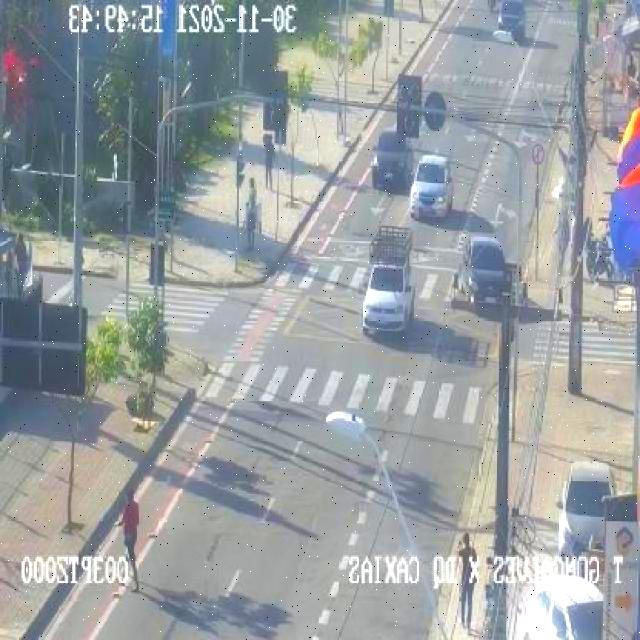Car: (358, 230, 419, 339), (462, 237, 524, 314), (368, 126, 413, 194), (414, 154, 457, 224), (493, 0, 532, 47)
